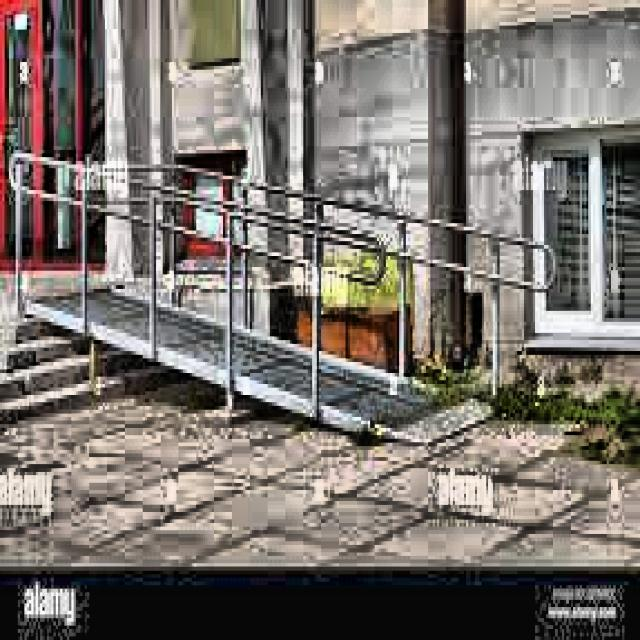escada: (0, 320, 80, 418)
